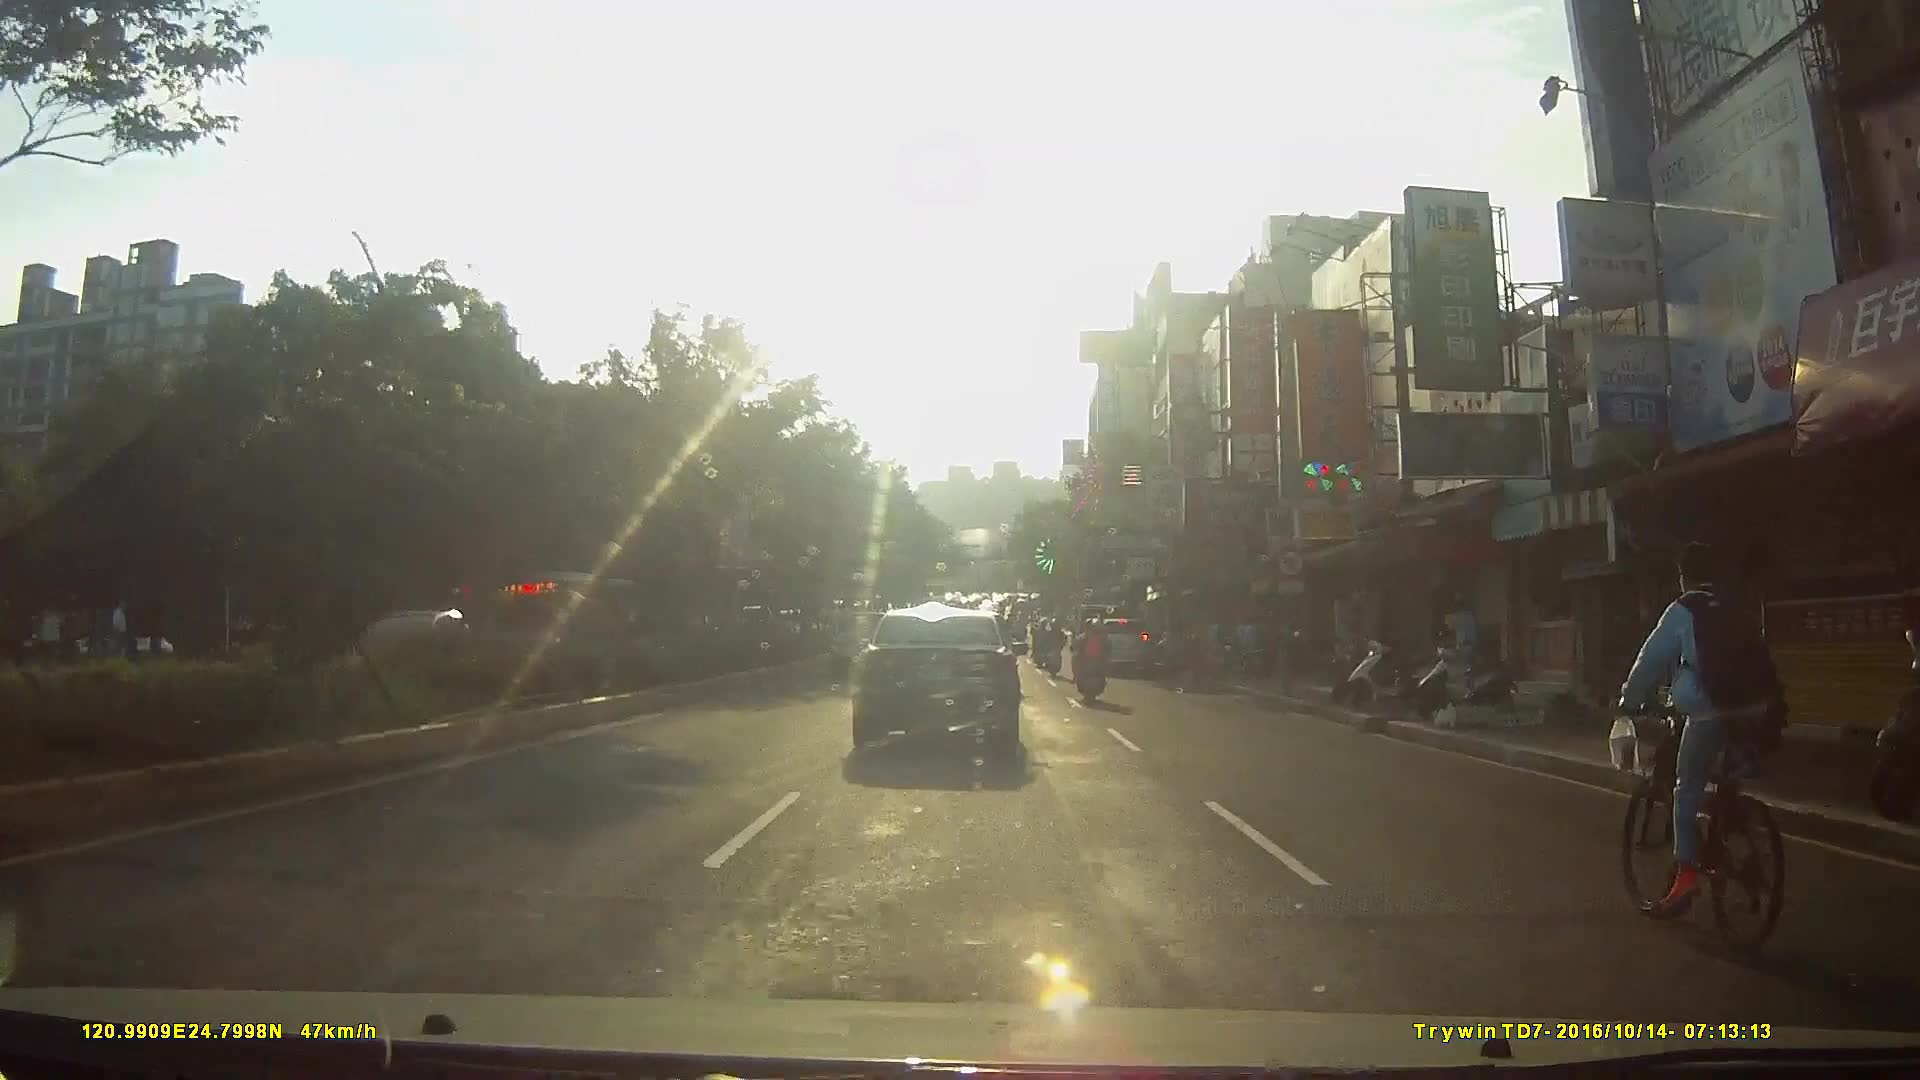pedestrian: (1440, 588, 1481, 677)
rider: (1616, 542, 1800, 953), (1067, 615, 1111, 710), (1039, 618, 1067, 680)
vehicle: (846, 595, 1039, 767), (1087, 614, 1156, 675)
